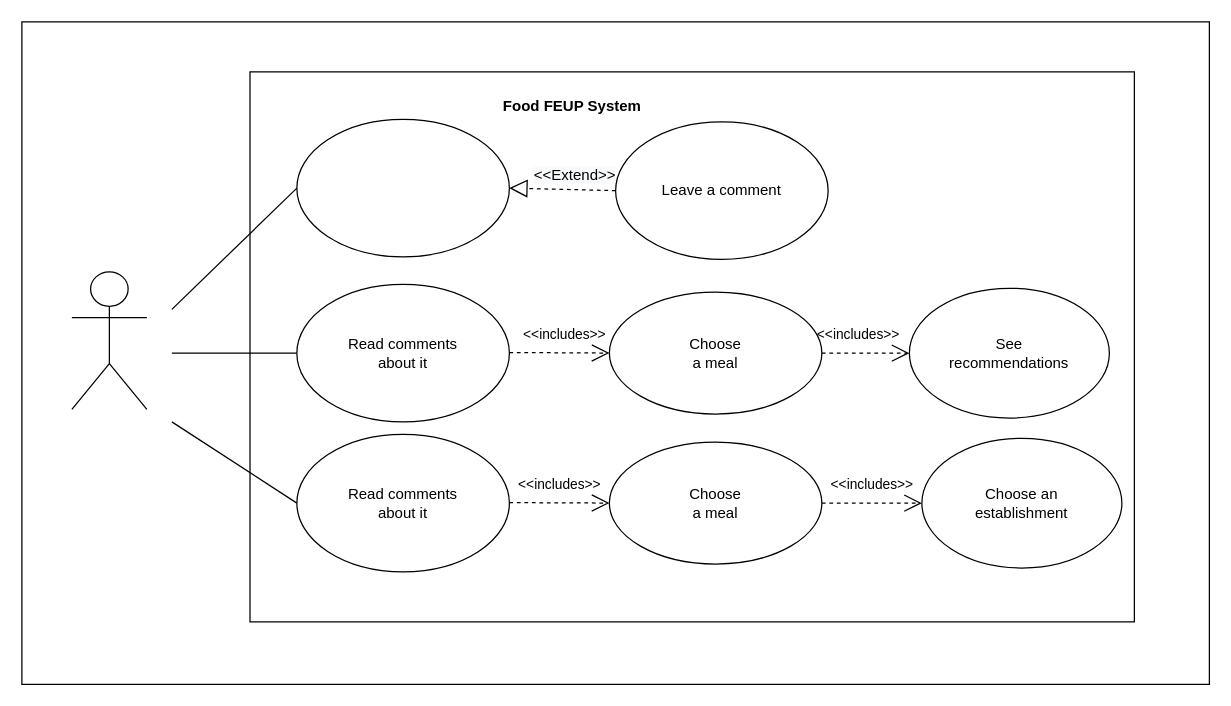
This 1231x706 diagram has some shape labels left out. The shapes that lost their labels are listed below. From the top down, each one's centre as x and y in pixels, then its label:
the point at 402,187: Leave a rating
the point at 109,340: Authenticated User
